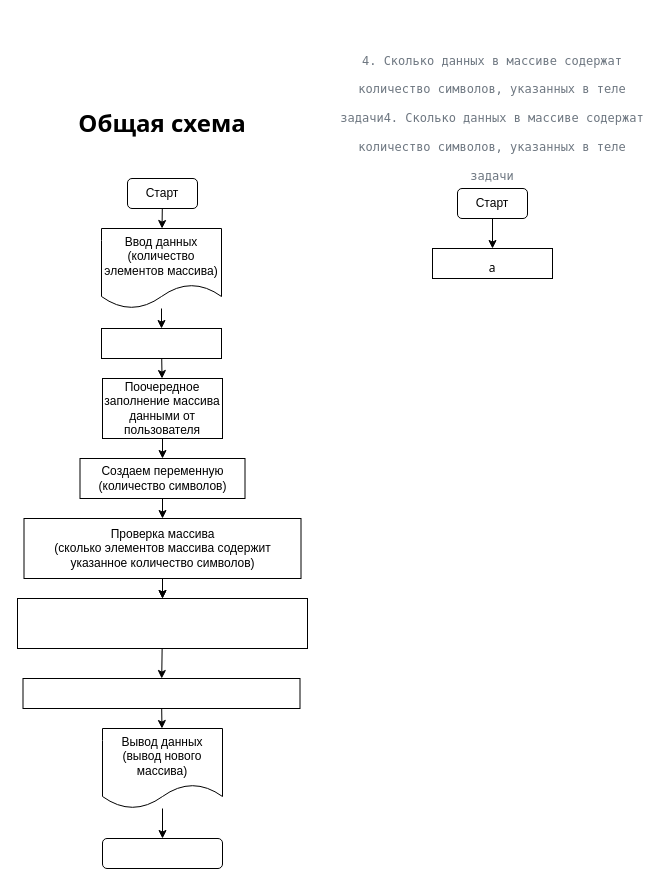
The diagram is 665 pixels wide and 886 high, and some of its shapes have lost their labels. The centre of each missing label's shape, as x and y in pixels:
Arr[...] (создание массива): the point at 161,343
ArrNew[...] (создание нового массива с новым количеством элементов ): the point at 162,623
Заполнение нового массива: the point at 161,693
Конец: the point at 162,853
